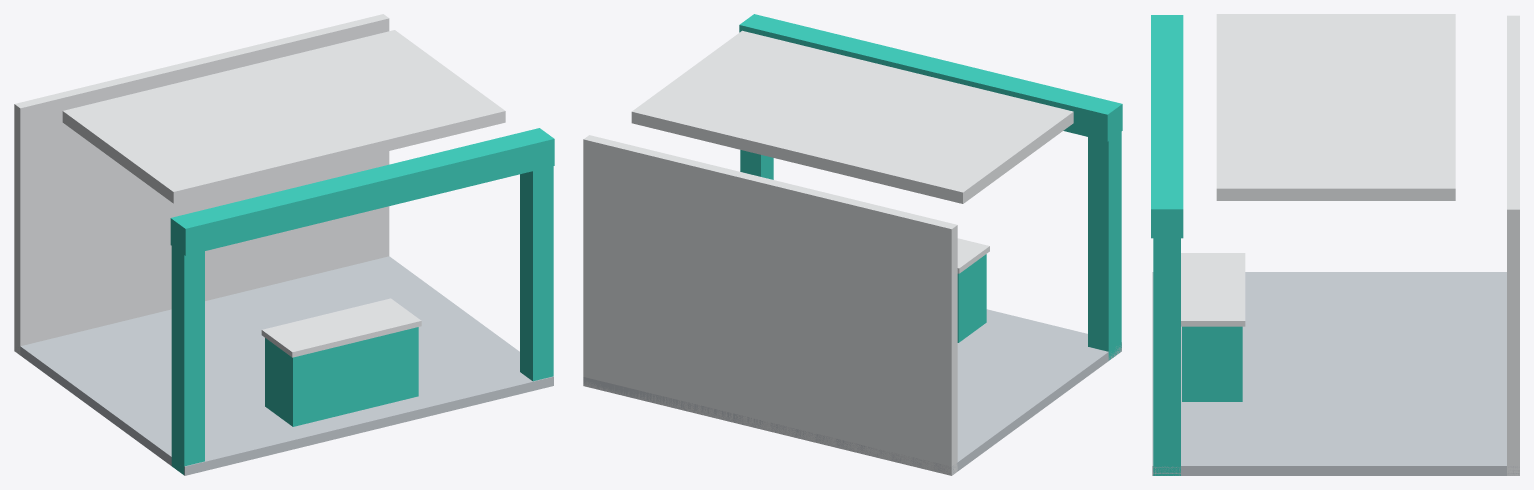
3 renders of one model, left to right at view 1: azimuth 30°, elevation 25°; view 2: azimuth 150°, elevation 25°; view 3: azimuth 270°, elevation 25°, orthographic. The views are drawn at different scales.
Visible parts, largest first — view 1: Exhibition Booth Concept; view 2: Exhibition Booth Concept; view 3: Exhibition Booth Concept.
Part boxes in pixels (<box>): Exhibition Booth Concept: <box>14,14,554,475</box>; Exhibition Booth Concept: <box>583,14,1122,475</box>; Exhibition Booth Concept: <box>1151,14,1519,475</box>.
Bounding box in the file's own units: 5 × 3.34 × 4.02.
